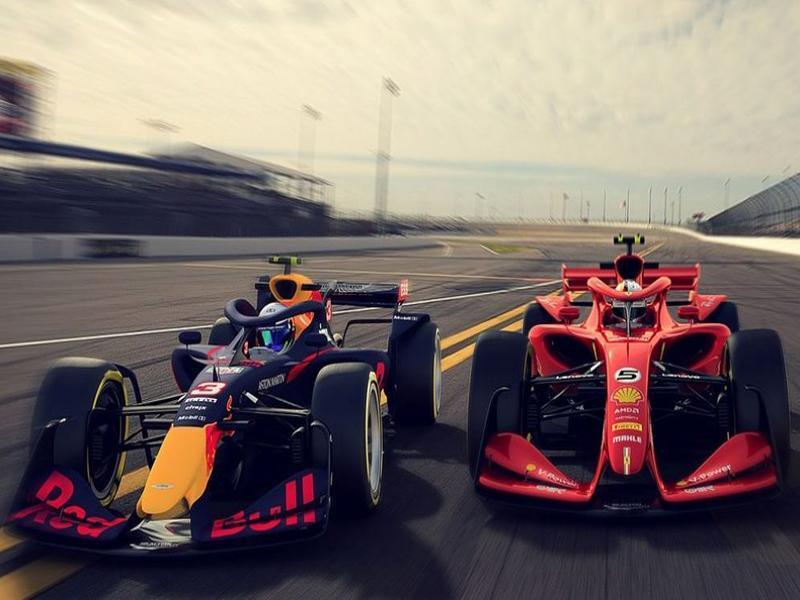f1: (26, 247, 449, 554), (477, 242, 800, 519)
